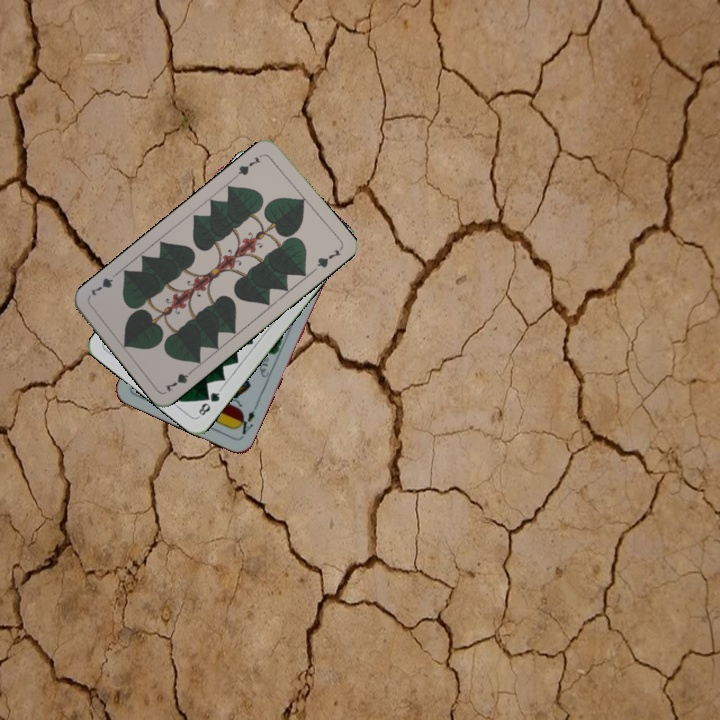EA: (232, 406, 258, 440)
G7: (161, 364, 197, 395), (231, 153, 263, 180)
G8: (194, 385, 224, 420)
